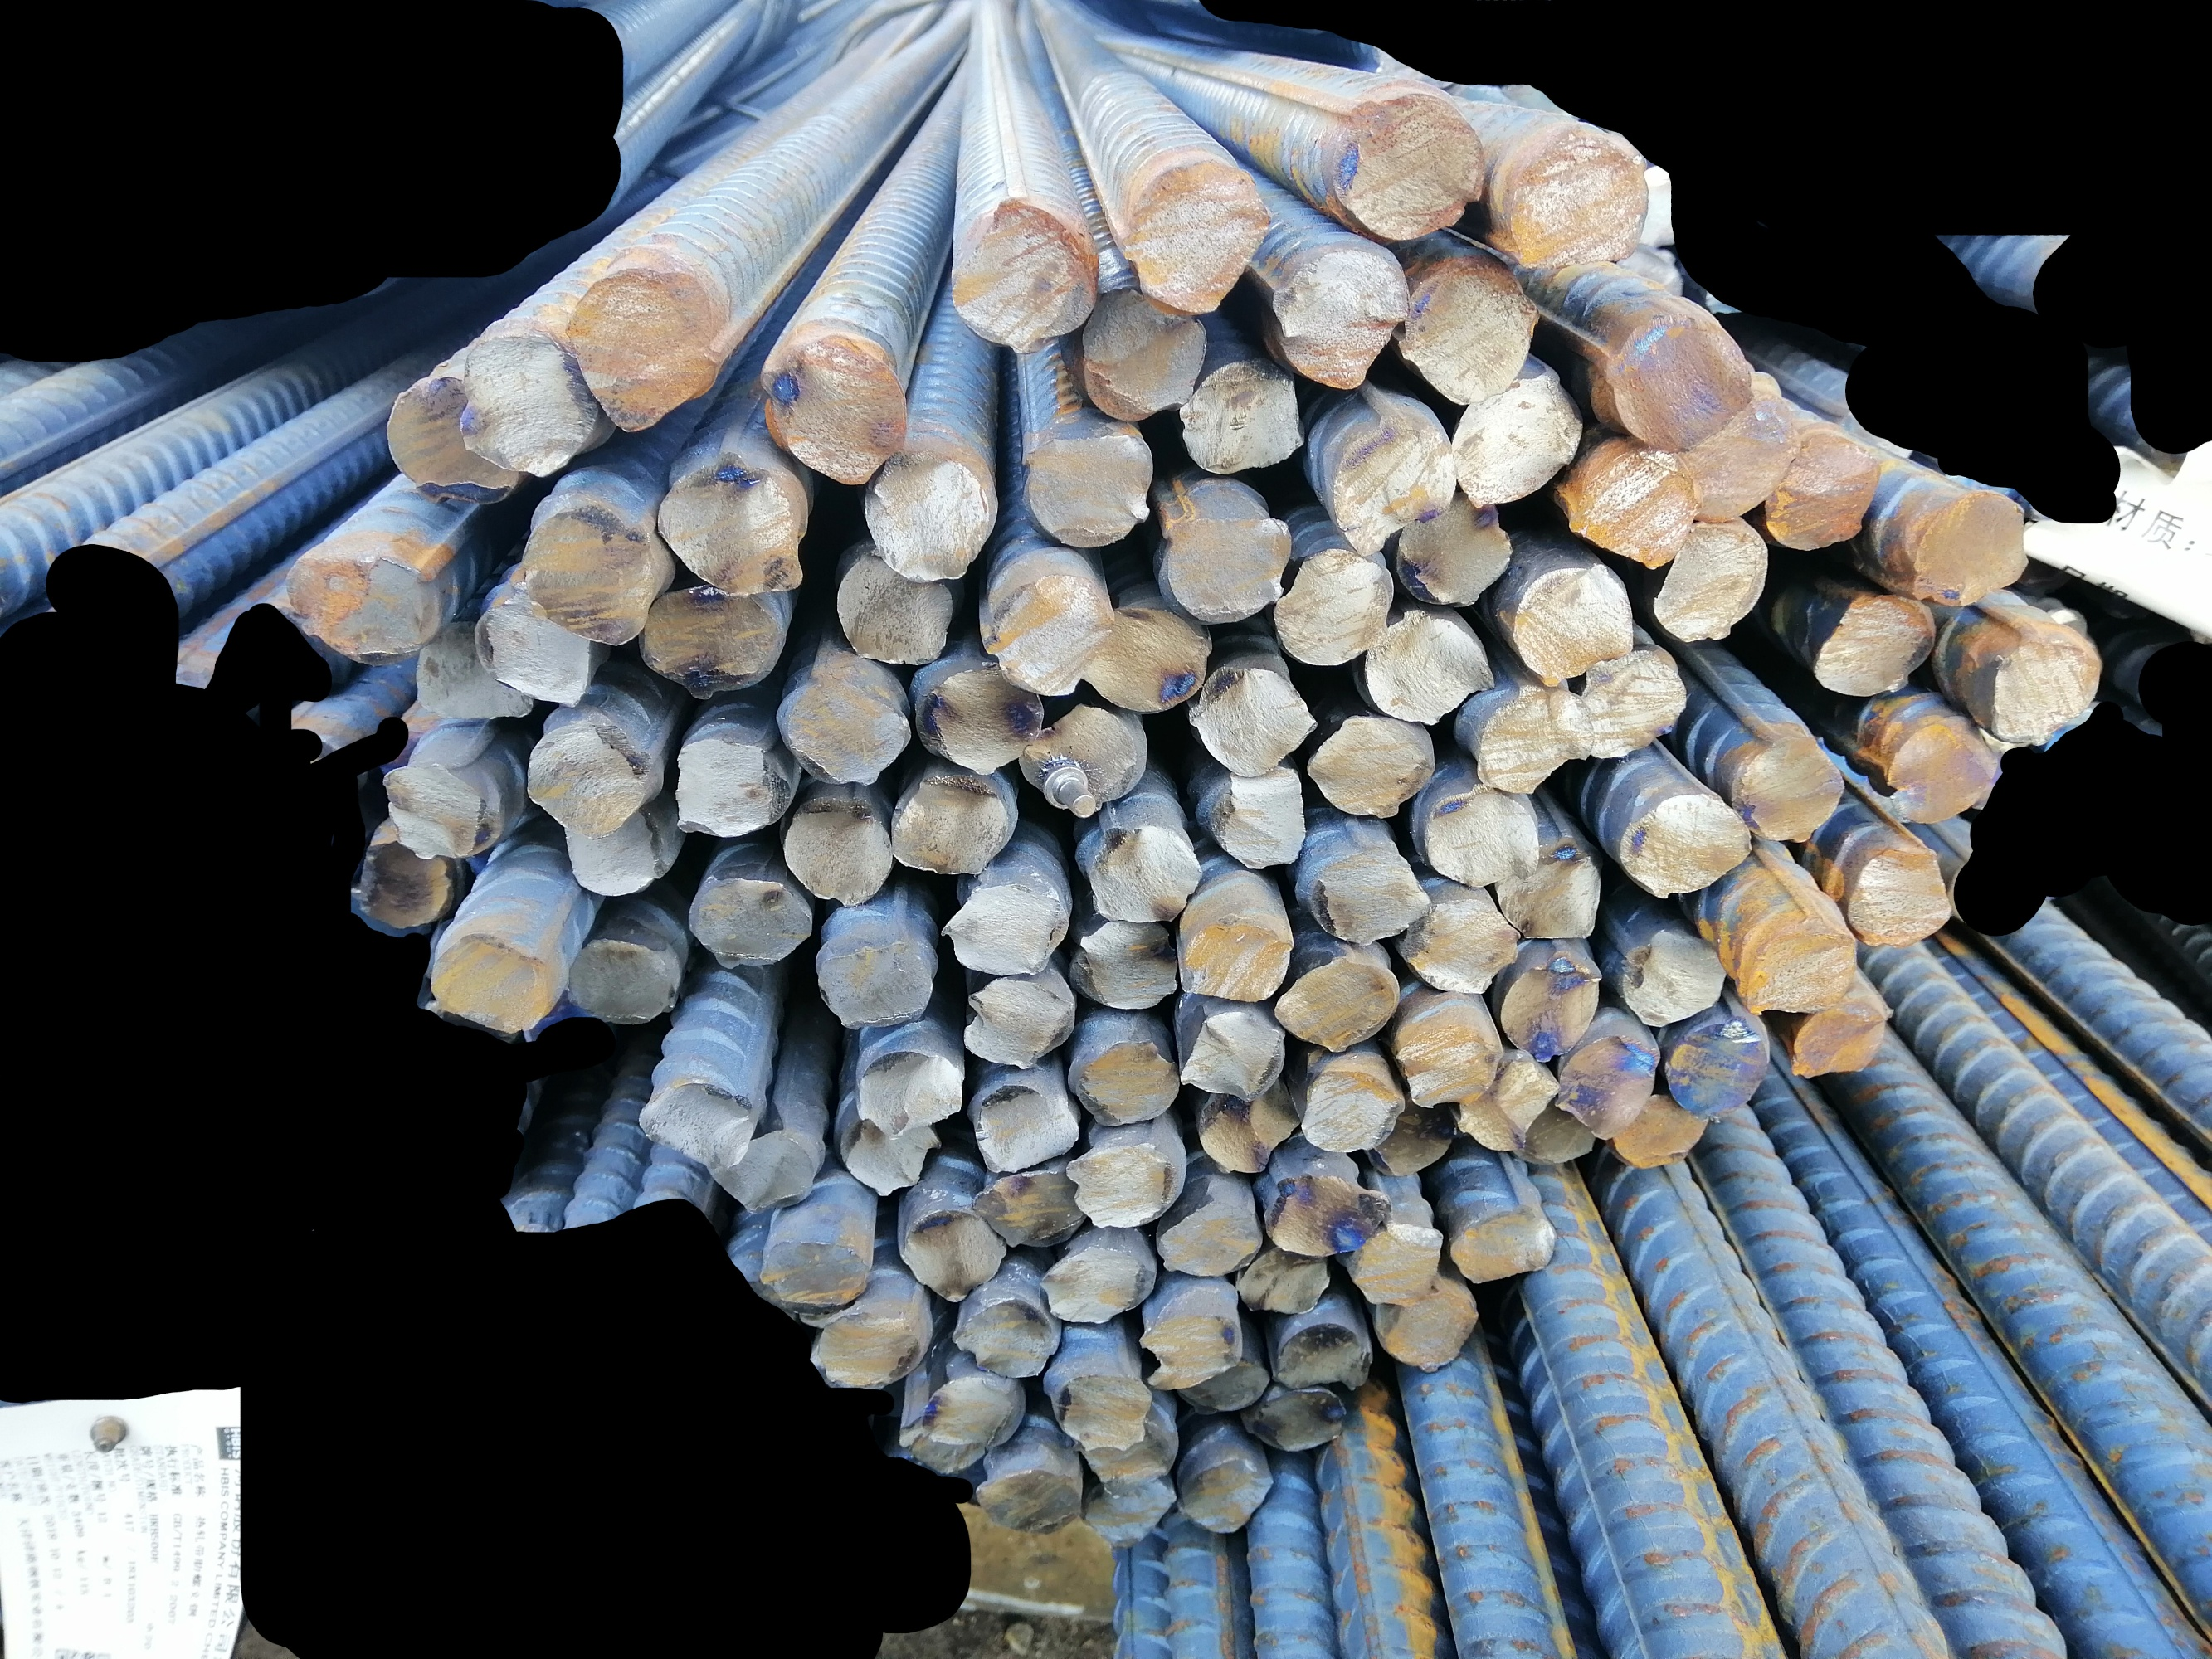rebar: (753, 317, 912, 490), (573, 261, 725, 434), (1117, 157, 1271, 319), (1335, 80, 1489, 242), (654, 446, 809, 599), (950, 204, 1102, 356), (1591, 310, 1754, 451), (460, 329, 605, 483), (1506, 122, 1645, 275), (1400, 247, 1537, 403), (1267, 242, 1410, 390), (859, 437, 997, 584), (525, 497, 657, 648), (1450, 362, 1584, 511), (1328, 408, 1462, 556), (383, 369, 532, 502), (284, 544, 439, 664), (641, 580, 791, 704), (410, 917, 563, 1037), (767, 669, 912, 796), (1562, 439, 1701, 570), (1670, 383, 1801, 523), (1084, 279, 1208, 423), (980, 570, 1116, 701), (1515, 558, 1639, 697), (919, 650, 1049, 779), (1021, 423, 1154, 549), (1361, 605, 1496, 728), (1184, 659, 1321, 779), (396, 627, 539, 742), (777, 779, 899, 913), (1157, 502, 1292, 624), (523, 714, 659, 833), (824, 552, 962, 669), (1070, 606, 1217, 716), (1269, 542, 1396, 667), (1177, 357, 1309, 477), (1980, 620, 2106, 746), (471, 587, 598, 711), (1651, 518, 1773, 641), (1907, 488, 2032, 608), (1391, 486, 1513, 608), (1471, 678, 1591, 800), (1736, 901, 1862, 1018), (377, 758, 514, 864), (1766, 425, 1881, 552), (892, 762, 1009, 885), (556, 795, 690, 901), (683, 861, 816, 967), (1621, 795, 1755, 899), (1809, 587, 1935, 699), (1307, 714, 1436, 823), (1302, 842, 1435, 946), (1020, 702, 1142, 816), (1733, 725, 1846, 847), (1578, 647, 1693, 765), (1419, 781, 1544, 889), (812, 929, 940, 1035), (1389, 993, 1504, 1110), (636, 1068, 760, 1176), (669, 725, 784, 840), (1199, 1068, 1313, 1185), (1886, 709, 1999, 826), (1494, 829, 1604, 950), (1842, 835, 1956, 950), (943, 880, 1070, 981), (1276, 953, 1403, 1054), (1082, 821, 1206, 924), (1175, 906, 1300, 1006), (1496, 950, 1602, 1066), (1614, 925, 1734, 1028), (751, 1218, 880, 1314), (1393, 899, 1522, 995), (1201, 762, 1309, 875), (1260, 1162, 1384, 1260), (1555, 1032, 1663, 1140), (1663, 1011, 1771, 1119), (973, 1080, 1091, 1178), (959, 974, 1077, 1072), (1781, 992, 1902, 1087), (851, 1040, 966, 1140), (706, 1127, 830, 1218), (811, 1300, 933, 1391), (899, 1208, 1011, 1305), (1455, 1053, 1558, 1155), (1180, 1006, 1288, 1103), (1067, 1141, 1185, 1230), (572, 931, 675, 1032), (1041, 1241, 1159, 1328), (1074, 1037, 1182, 1131), (1072, 917, 1180, 1011), (971, 1162, 1086, 1249), (1447, 1201, 1558, 1290), (1299, 1065, 1407, 1155), (953, 1293, 1063, 1382), (1379, 1274, 1478, 1371), (837, 1110, 941, 1202), (352, 836, 451, 932), (920, 1368, 1028, 1450), (1051, 1368, 1156, 1452), (1347, 1222, 1445, 1309), (973, 1464, 1081, 1542), (1184, 1445, 1274, 1537), (1365, 1096, 1459, 1180), (1157, 1202, 1262, 1277), (1140, 1312, 1243, 1387), (1614, 1093, 1712, 1171), (1075, 1415, 1178, 1488), (1238, 1239, 1333, 1316), (1513, 1094, 1605, 1171), (1245, 1384, 1344, 1452), (1084, 1476, 1178, 1547), (1175, 1352, 1271, 1420), (896, 1415, 988, 1485), (1274, 1323, 1365, 1389)
